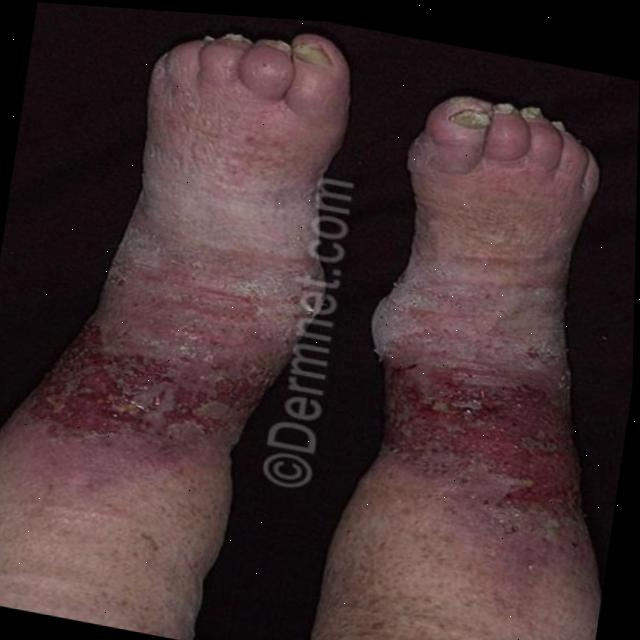Eczema: (391, 333, 606, 537), (20, 289, 254, 474)
